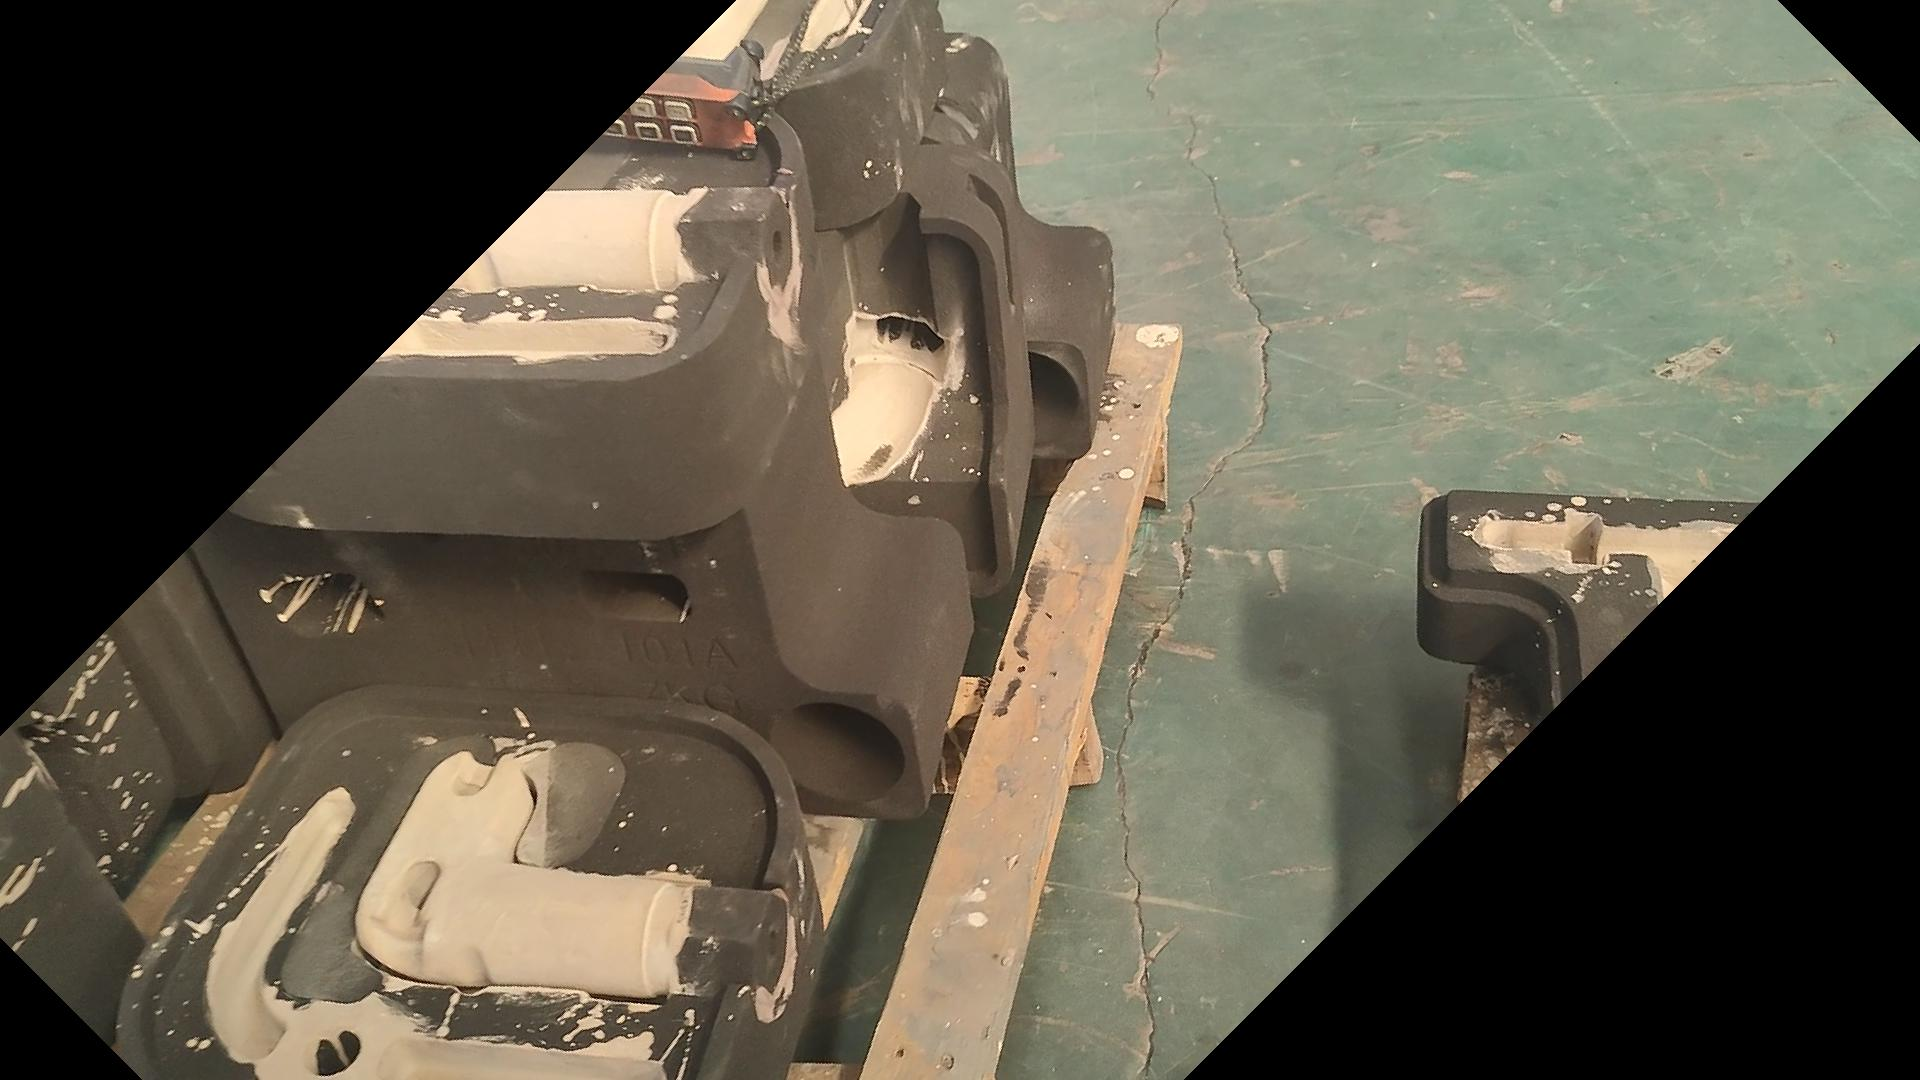pouring hole: (767, 703, 905, 802), (988, 349, 1083, 446)
